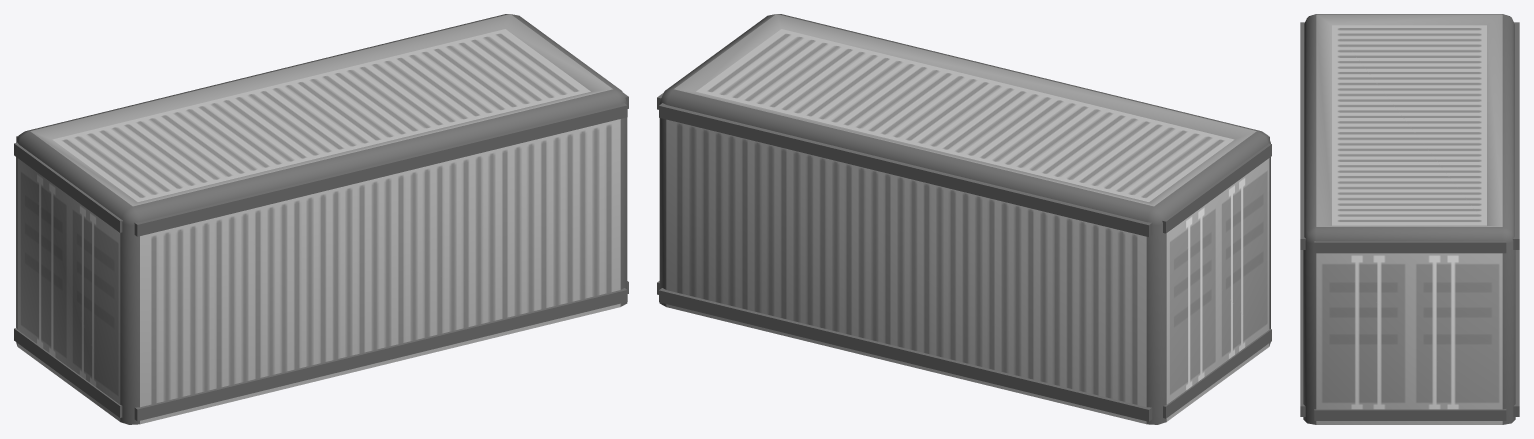
Rendered from Container.fbx.
3 views of the same model, side by side, from view 1: azimuth 30°, elevation 25°; view 2: azimuth 150°, elevation 25°; view 3: azimuth 270°, elevation 25° (orthographic). The views are drawn at different scales.
Parts seen in each view (by area): view 1: Container; view 2: Container; view 3: Container.
Part boxes in pixels (x1,y1,x2,y2): Container: (14,14,628,424); Container: (657,14,1271,424); Container: (1300,14,1519,424).
Size of the model in its own units: 501 by 200 by 206.
